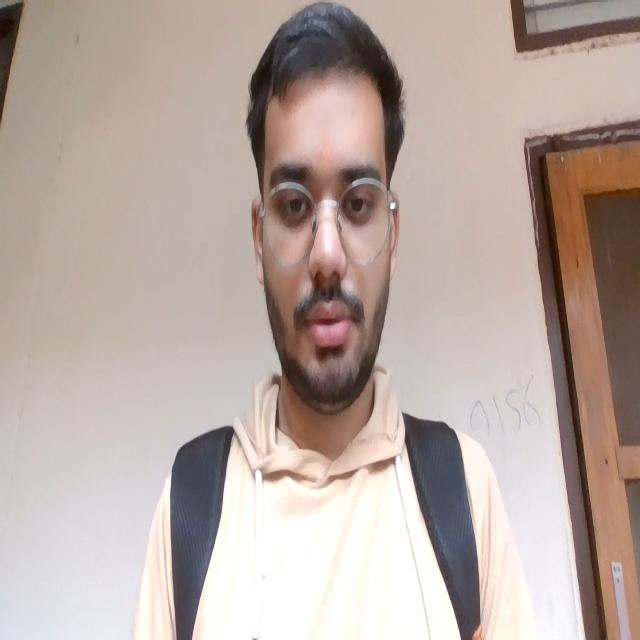awake: (267, 150, 380, 343)
